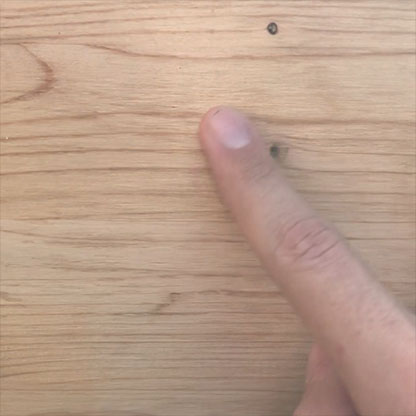fingertip: (197, 98, 268, 165)
